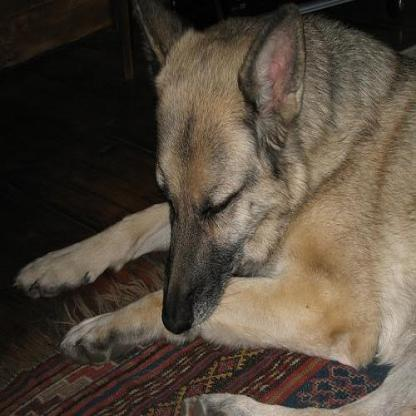German_shepherd: (11, 0, 414, 414)
